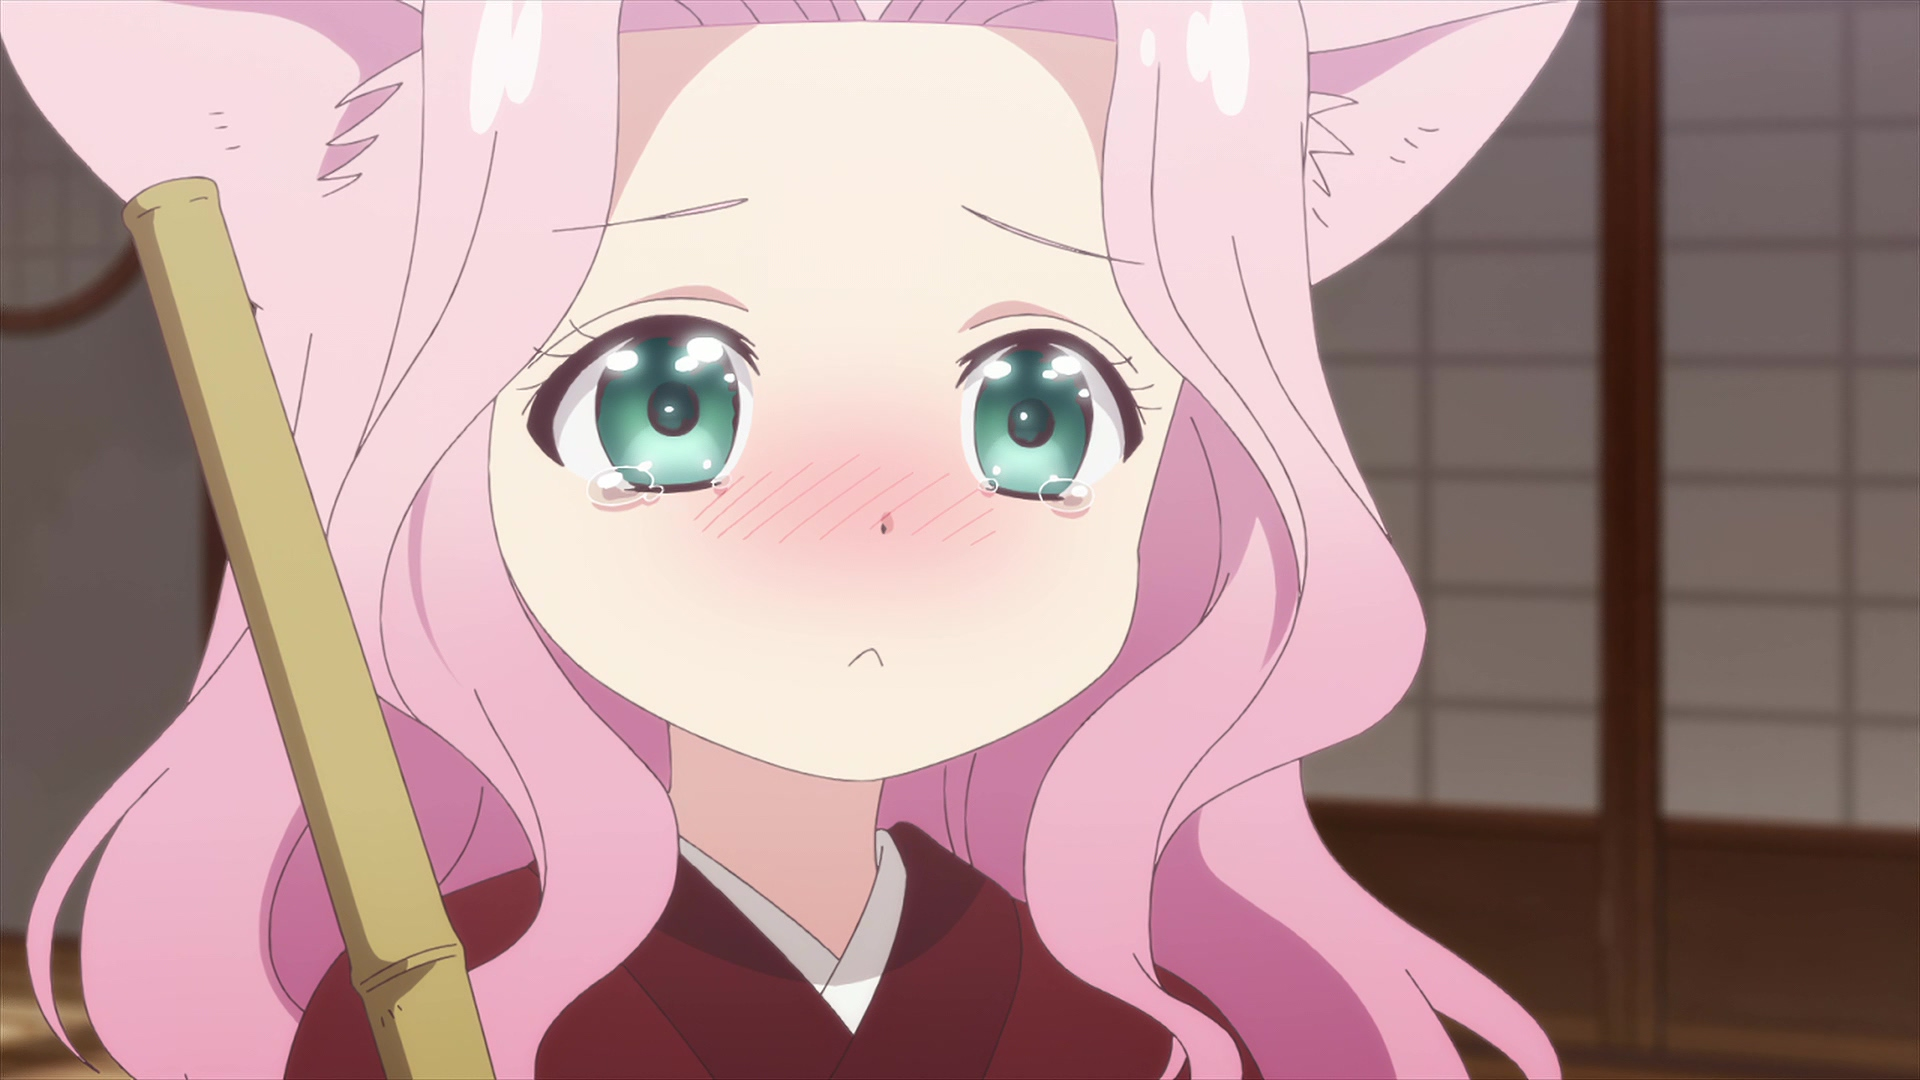莲: (1, 1, 1580, 1080)
